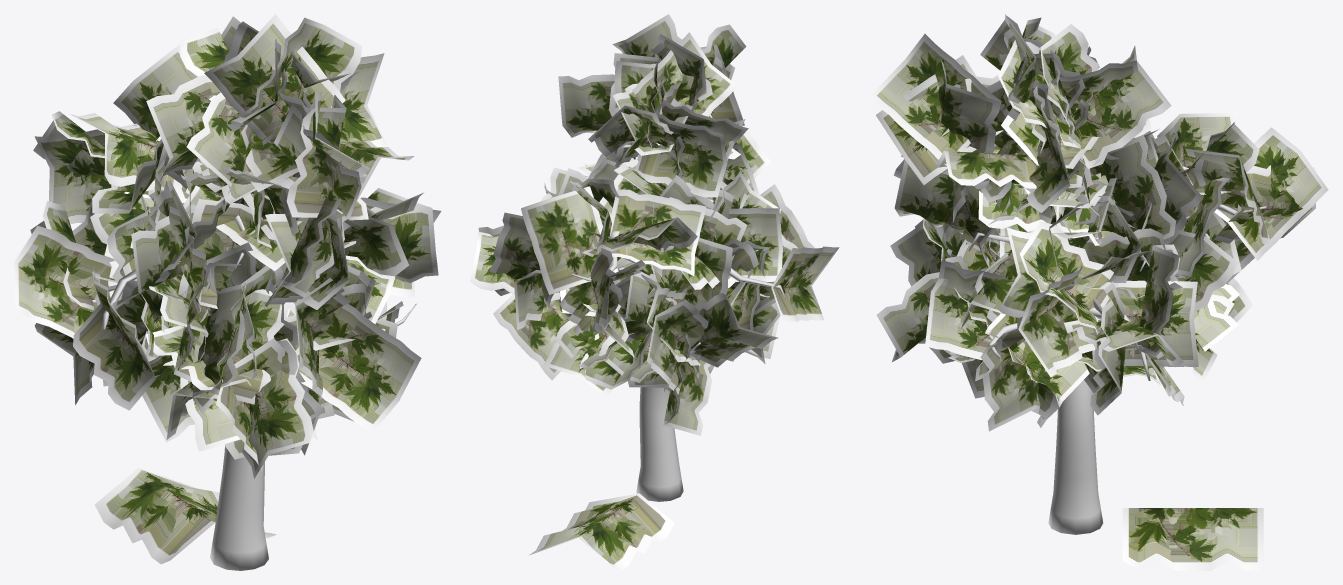
The model's file is Tree_3_FULL.fbx.
3 views of the same model, side by side, from view 1: azimuth 30°, elevation 25°; view 2: azimuth 150°, elevation 25°; view 3: azimuth 270°, elevation 25° (orthographic). The views are drawn at different scales.
Parts seen in each view (by area): view 1: Tree|Leaf|Dupli|102, Leaf, Tree|Leaf|Dupli|47, Tree|Leaf|Dupli|25, Tree, Tree|Leaf|Dupli|36, Tree|Leaf|Dupli|133, Tree|Leaf|Dupli|14, Tree|Leaf|Dupli|10, Tree|Leaf|Dupli|16, Tree|Leaf|Dupli|27, Tree|Leaf|Dupli|68 (+51 smaller); view 2: Tree|Leaf|Dupli|8, Leaf, Tree, Tree|Leaf|Dupli|14, Tree|Leaf|Dupli|6, Tree|Leaf|Dupli|36, Tree|Leaf|Dupli|146, Tree|Leaf|Dupli|47, Tree|Leaf|Dupli|83, Tree|Leaf|Dupli|69, Tree|Leaf|Dupli|46, Tree|Leaf|Dupli|147 (+40 smaller); view 3: Leaf, Tree, Tree|Leaf|Dupli|23, Tree|Leaf|Dupli|67, Tree|Leaf|Dupli|9, Tree|Leaf|Dupli|42, Tree|Leaf|Dupli|81, Tree|Leaf|Dupli|78, Tree|Leaf|Dupli|101, Tree|Leaf|Dupli|40, Tree|Leaf|Dupli|106, Tree|Leaf|Dupli|113 (+45 smaller).
Part boxes in pixels (left/top/right/bottom): Tree|Leaf|Dupli|102: left=295, top=303, right=421, bottom=432; Leaf: left=94, top=467, right=276, bottom=564; Tree|Leaf|Dupli|47: left=14, top=225, right=113, bottom=338; Tree|Leaf|Dupli|25: left=204, top=14, right=345, bottom=143; Tree: left=92, top=209, right=416, bottom=570; Tree|Leaf|Dupli|36: left=73, top=269, right=155, bottom=410; Tree|Leaf|Dupli|133: left=242, top=338, right=313, bottom=478; Tree|Leaf|Dupli|14: left=146, top=75, right=220, bottom=182; Tree|Leaf|Dupli|10: left=34, top=124, right=153, bottom=224; Tree|Leaf|Dupli|16: left=243, top=17, right=362, bottom=119; Tree|Leaf|Dupli|27: left=274, top=104, right=368, bottom=220; Tree|Leaf|Dupli|68: left=186, top=92, right=254, bottom=213; Tree|Leaf|Dupli|8: left=521, top=186, right=618, bottom=294; Leaf: left=529, top=493, right=674, bottom=570; Tree: left=570, top=143, right=784, bottom=501; Tree|Leaf|Dupli|14: left=634, top=109, right=727, bottom=197; Tree|Leaf|Dupli|6: left=610, top=189, right=706, bottom=276; Tree|Leaf|Dupli|36: left=771, top=246, right=839, bottom=321; Tree|Leaf|Dupli|146: left=647, top=299, right=708, bottom=394; Tree|Leaf|Dupli|47: left=690, top=293, right=778, bottom=367; Tree|Leaf|Dupli|83: left=558, top=74, right=614, bottom=137; Tree|Leaf|Dupli|69: left=632, top=32, right=736, bottom=125; Tree|Leaf|Dupli|46: left=493, top=295, right=569, bottom=380; Tree|Leaf|Dupli|147: left=663, top=333, right=711, bottom=435; Leaf: left=1122, top=508, right=1263, bottom=570; Tree: left=912, top=119, right=1266, bottom=534; Tree|Leaf|Dupli|23: left=868, top=33, right=1001, bottom=165; Tree|Leaf|Dupli|67: left=1073, top=46, right=1171, bottom=168; Tree|Leaf|Dupli|9: left=1214, top=127, right=1328, bottom=260; Tree|Leaf|Dupli|42: left=1020, top=221, right=1118, bottom=334; Tree|Leaf|Dupli|81: left=1101, top=134, right=1175, bottom=242; Tree|Leaf|Dupli|78: left=1018, top=265, right=1095, bottom=377; Tree|Leaf|Dupli|101: left=894, top=160, right=1001, bottom=244; Tree|Leaf|Dupli|40: left=1092, top=280, right=1198, bottom=366; Tree|Leaf|Dupli|106: left=925, top=267, right=992, bottom=360; Tree|Leaf|Dupli|113: left=980, top=338, right=1035, bottom=431.
Bounding box in the file's own units: 628 × 874 × 675.
Materials: 2 (1 with a texture image).
